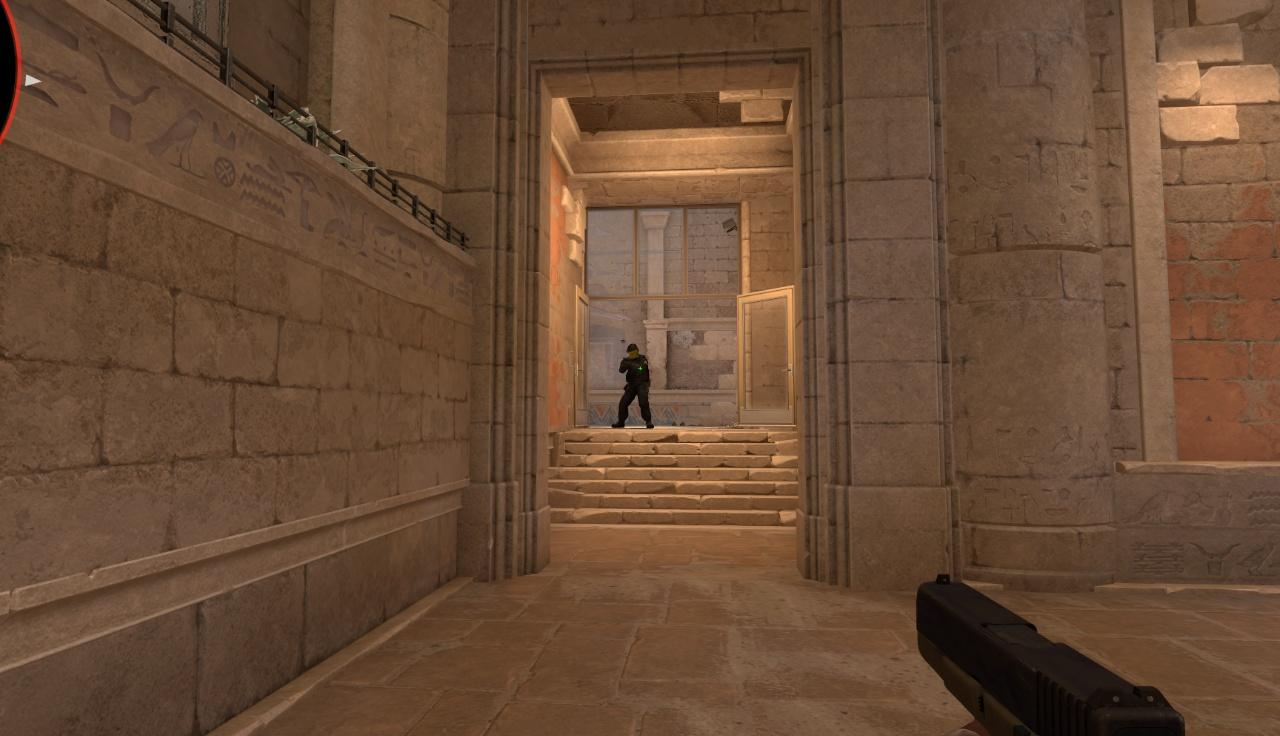ct: (619, 343, 652, 429)
cthead: (626, 344, 640, 359)
pistol: (912, 572, 1189, 736)
